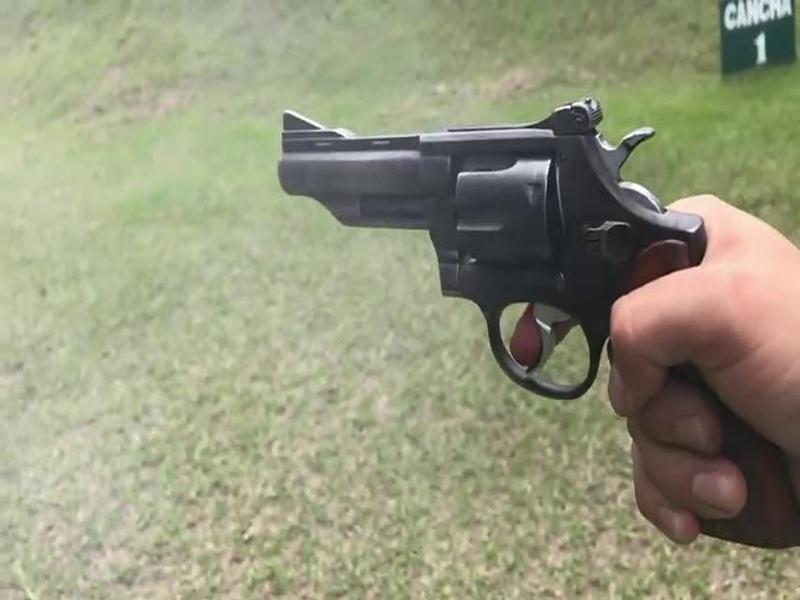Revolver: (275, 56, 759, 435)
